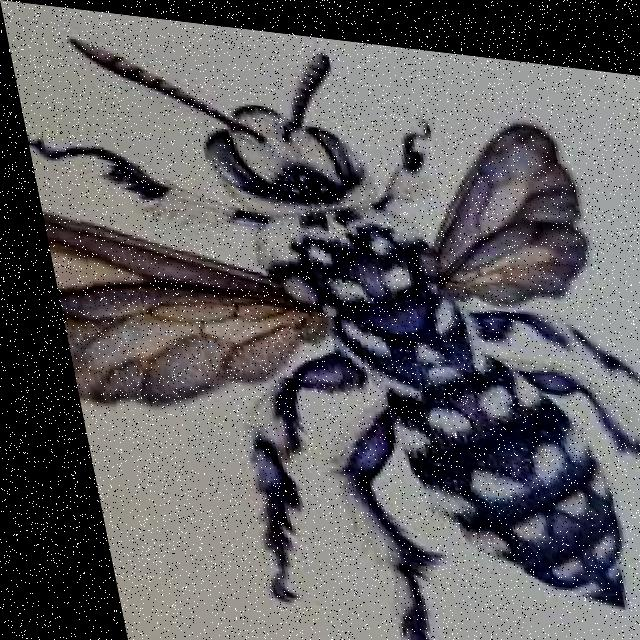Thyreus: (38, 9, 640, 640)
